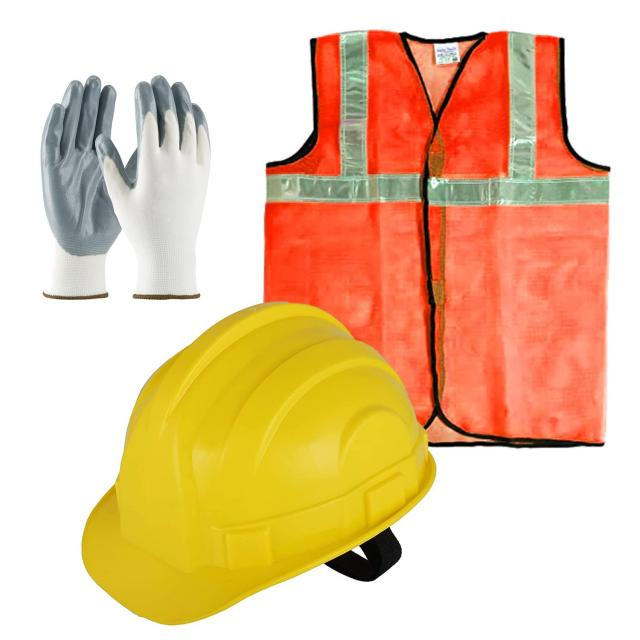Reflective-Jacket: (259, 21, 634, 457)
Safety-Helmet: (75, 297, 440, 629)
